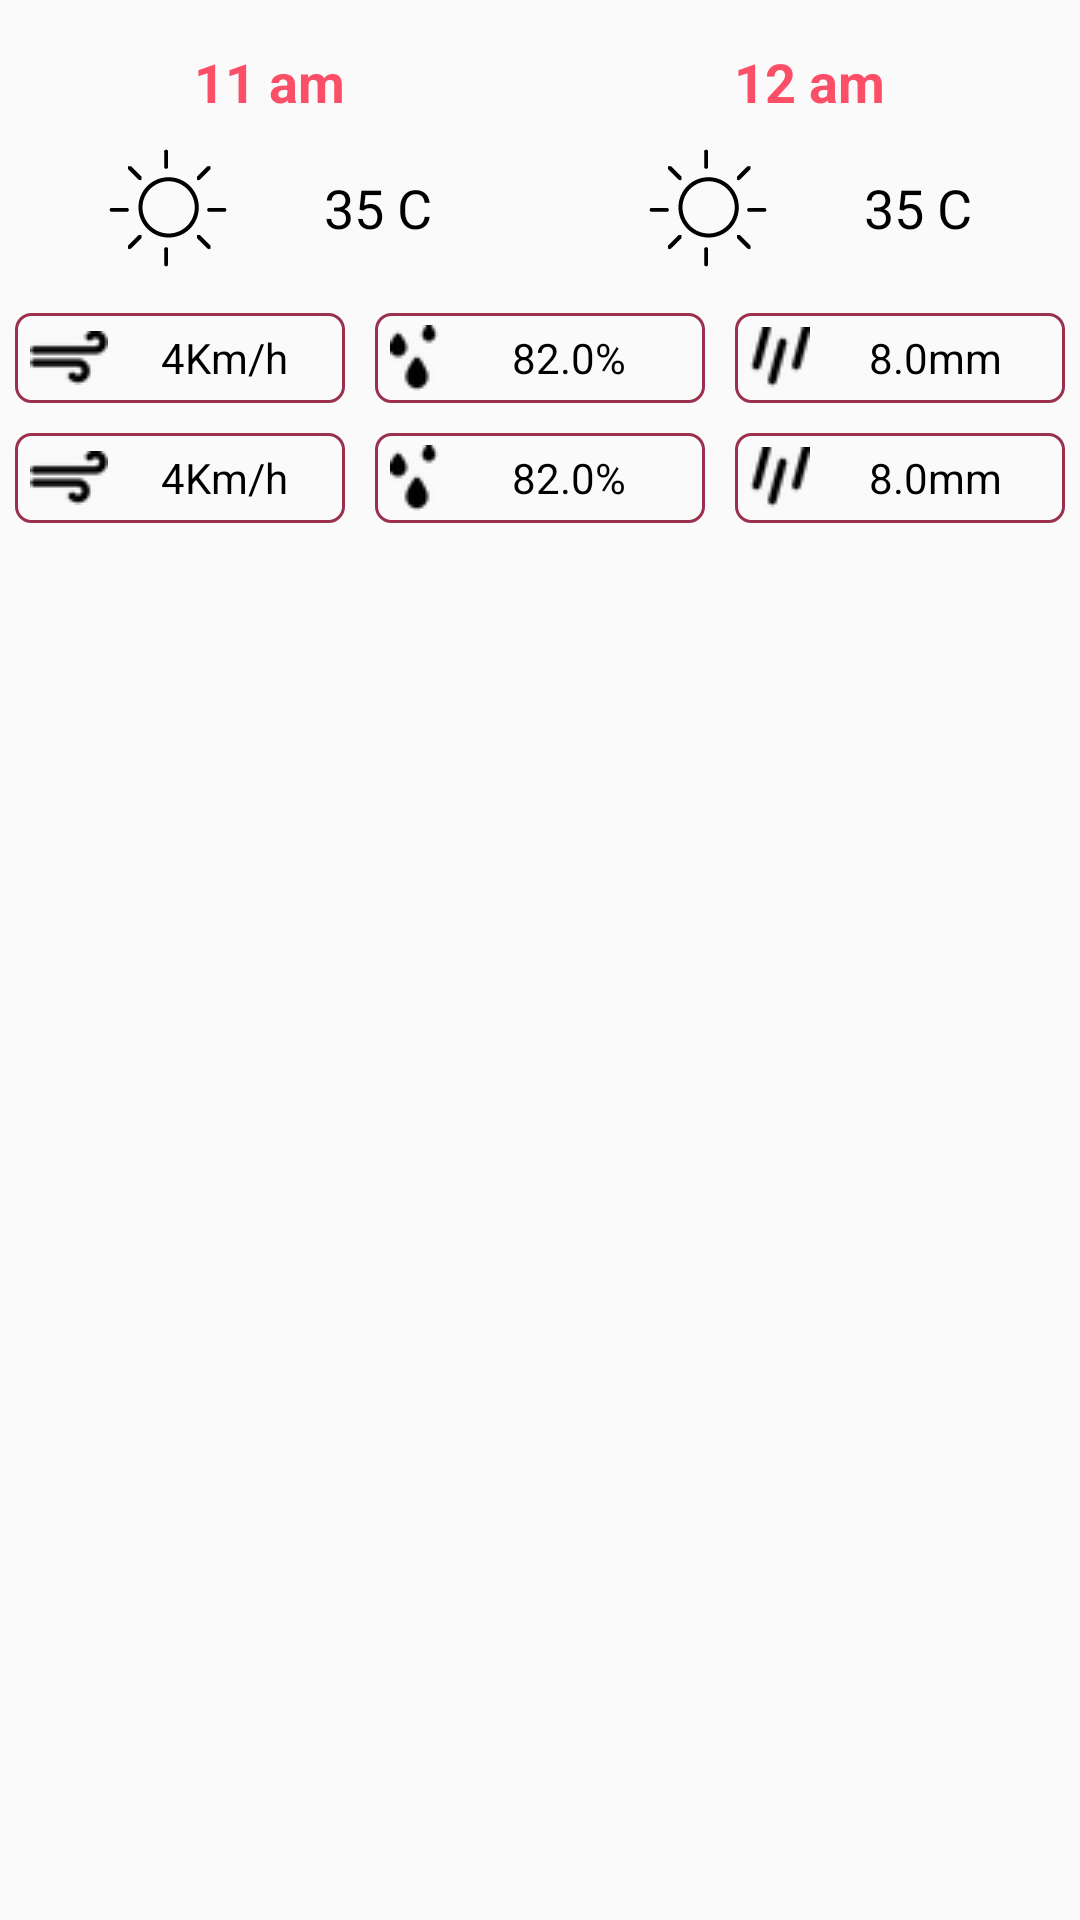

Point at icon controls on the screen. Image size 1080 x 1920, points as (x,y).
sunny: (168,208), (708,208)
